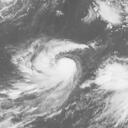cyclone: (48, 57, 78, 89)
